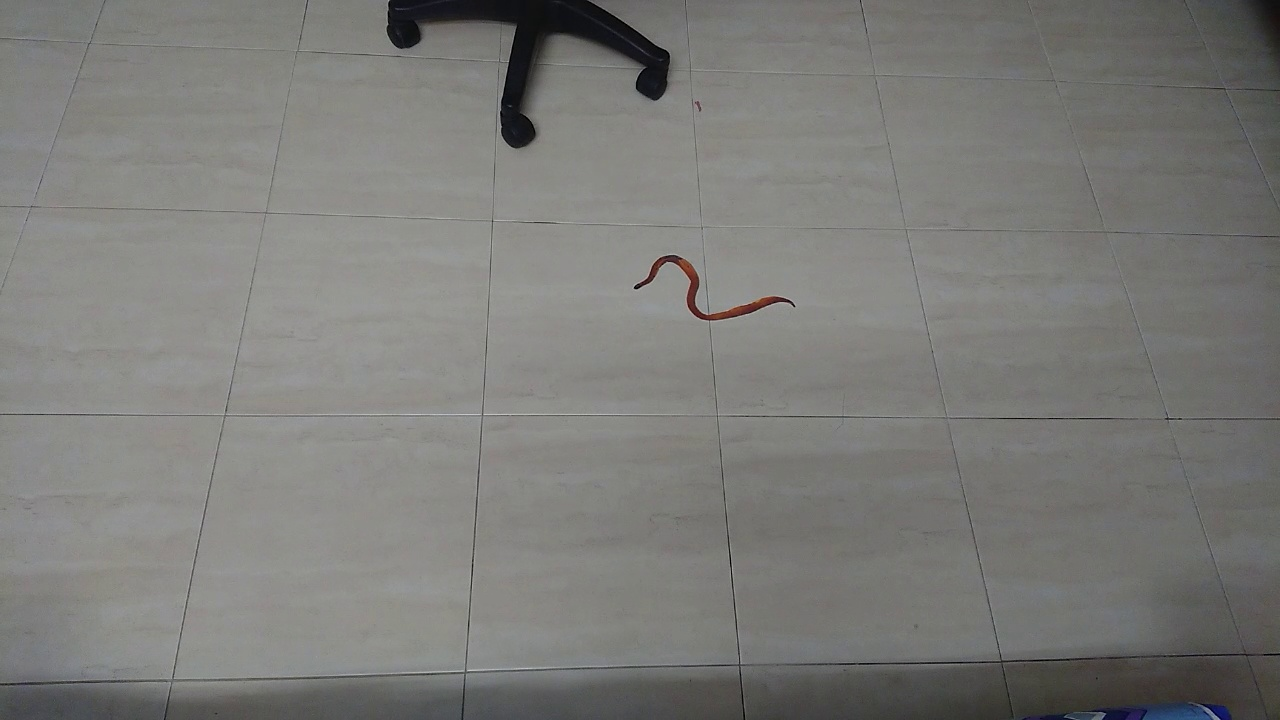snake: (613, 241, 807, 337)
